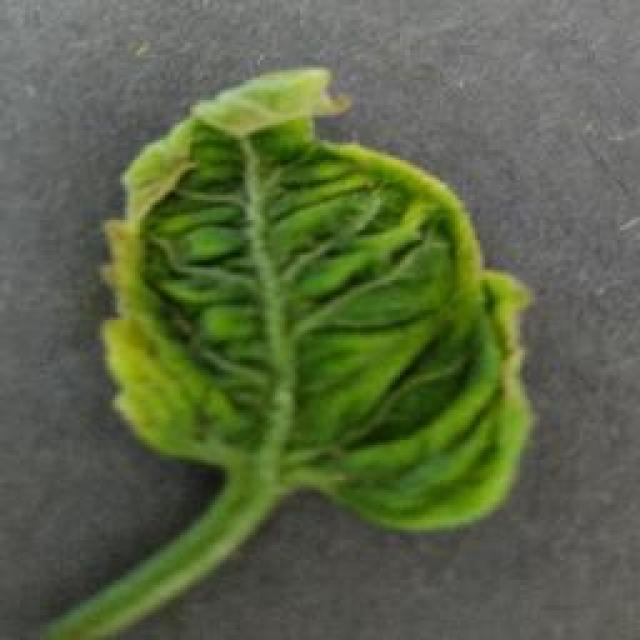Tomato yellow virus leaf: (97, 63, 540, 532)
